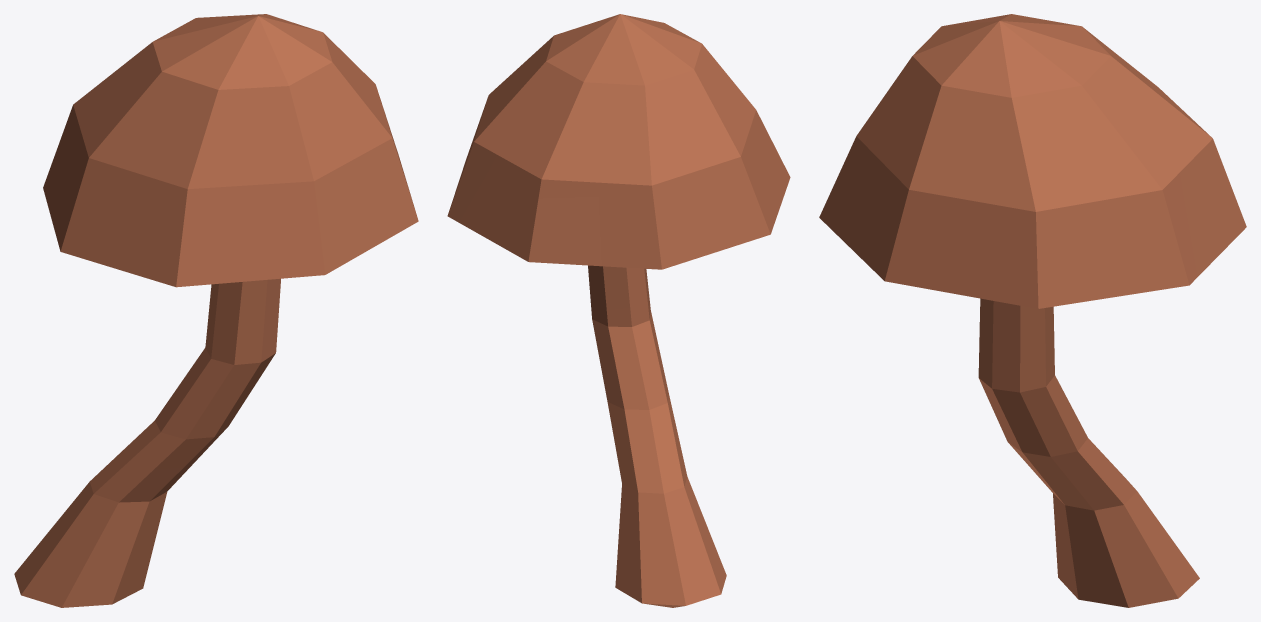
The model's file is TreePackage.fbx_Mushroom_4.fbx.
3 views of the same model, side by side, from view 1: azimuth 30°, elevation 25°; view 2: azimuth 150°, elevation 25°; view 3: azimuth 270°, elevation 25° (orthographic). The views are drawn at different scales.
Visible parts, largest first — view 1: Mushroom.002; view 2: Mushroom.002; view 3: Mushroom.002.
Boxes of the visible parts, x1,y1,x2,y2 form: Mushroom.002: (14, 14, 418, 607); Mushroom.002: (447, 14, 790, 607); Mushroom.002: (819, 14, 1246, 607).
Size of the model in its own units: 87.92 by 148 by 88.61.
